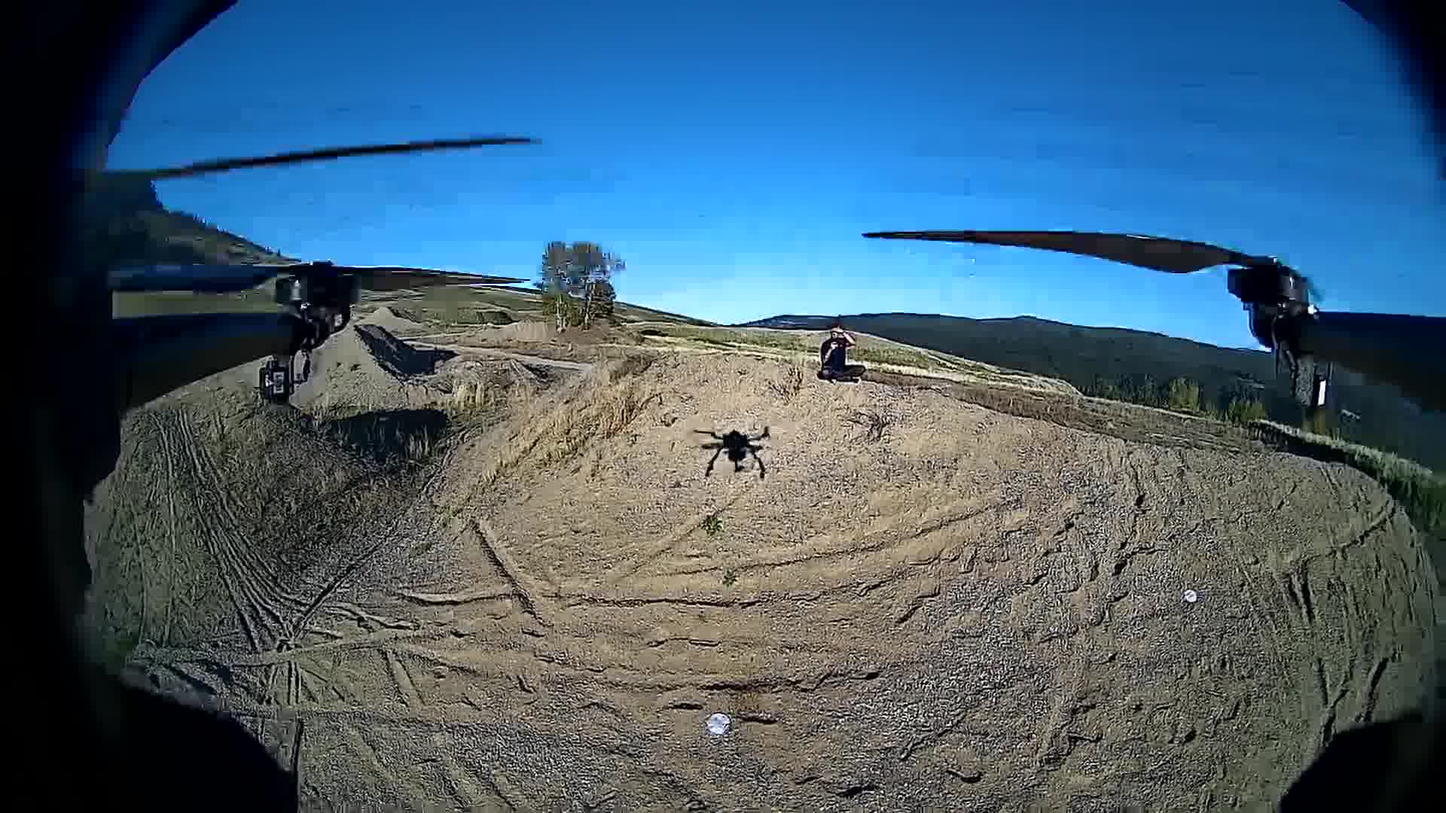Target: (704, 713, 729, 733), (1184, 590, 1197, 603)
